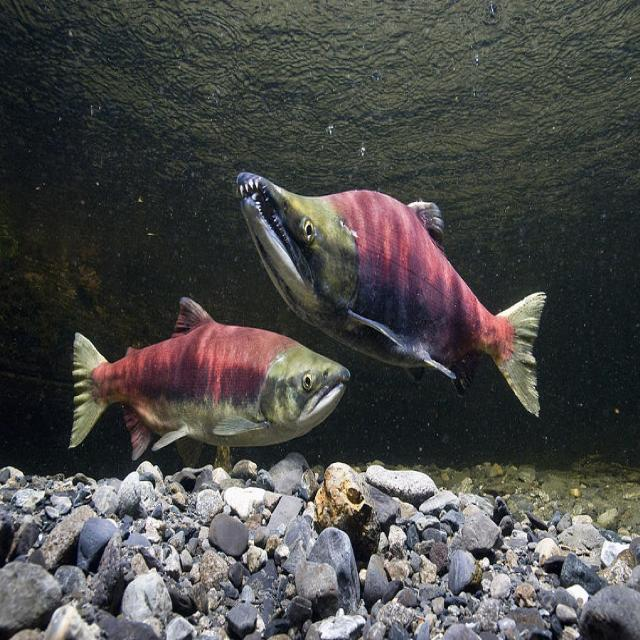salmon: (225, 144, 558, 437), (59, 300, 355, 479)
